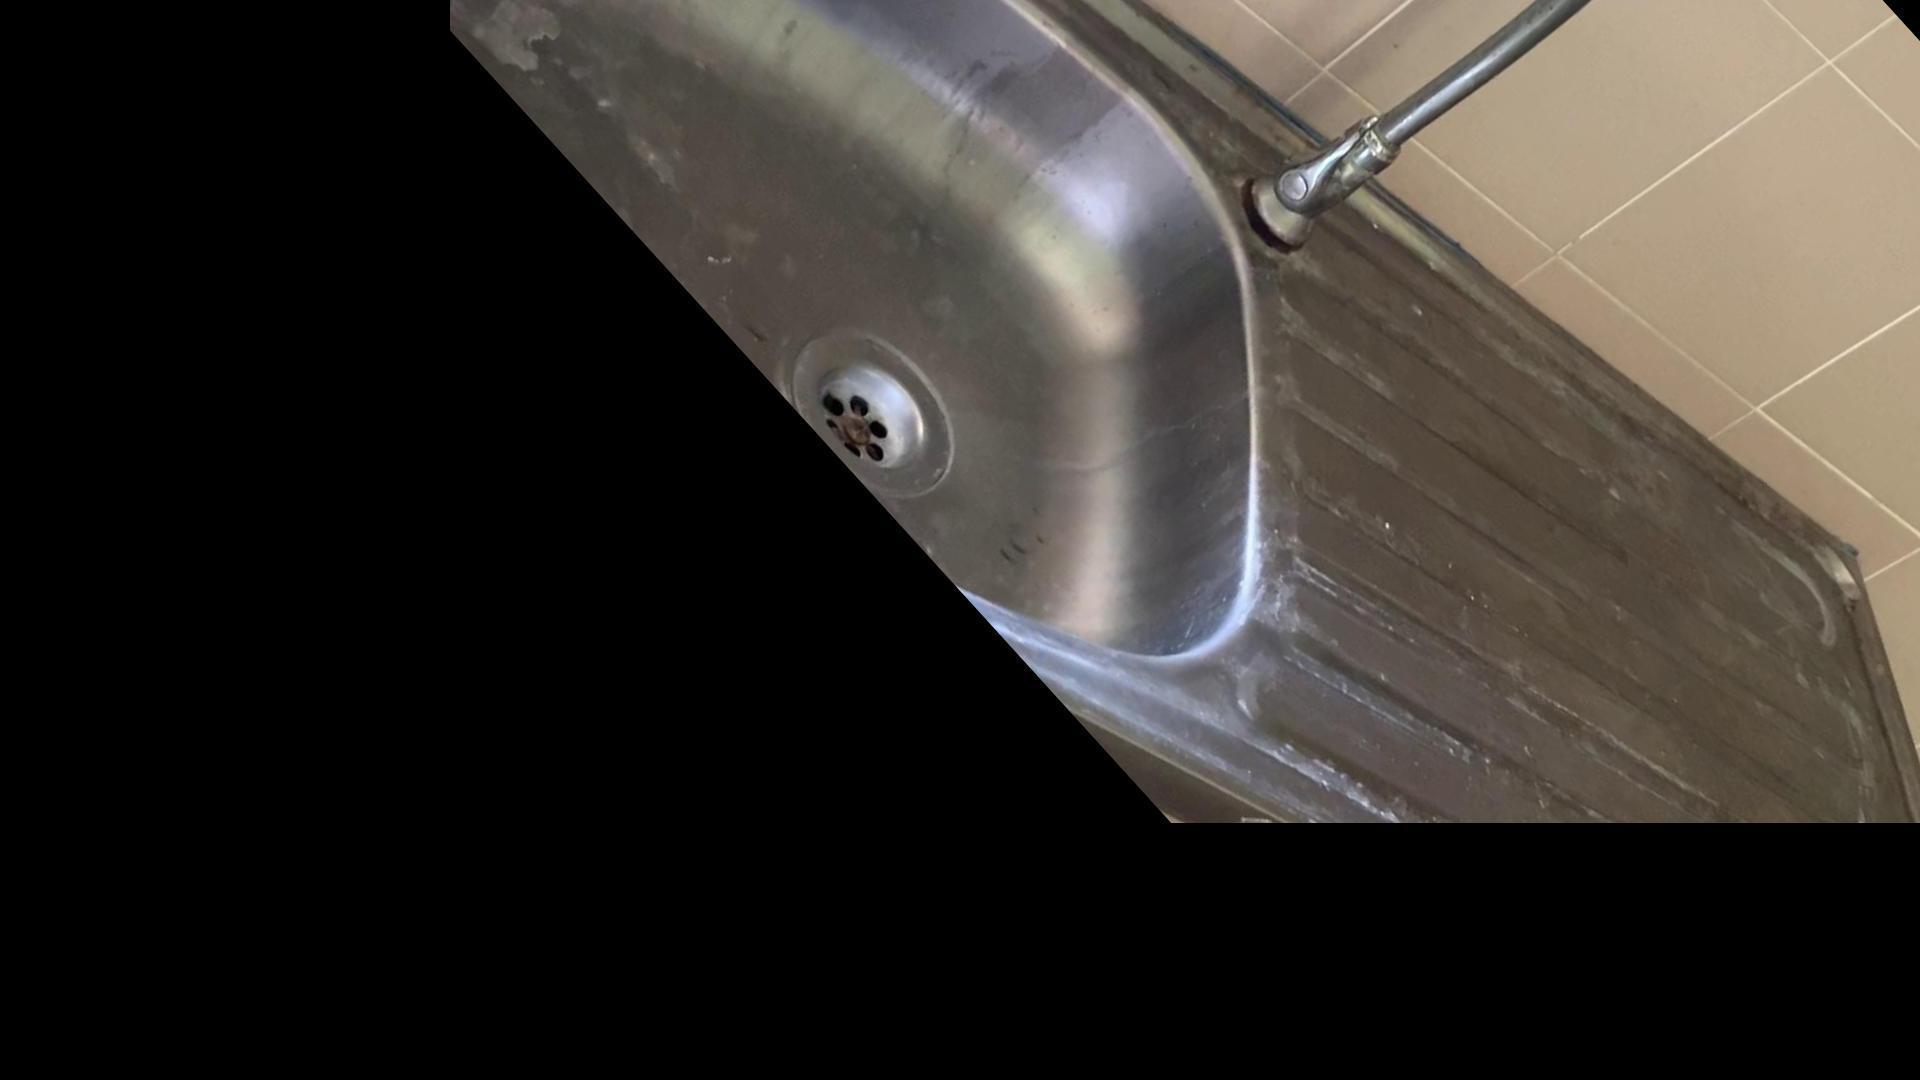Lavaplatos: (365, 0, 1832, 736)
